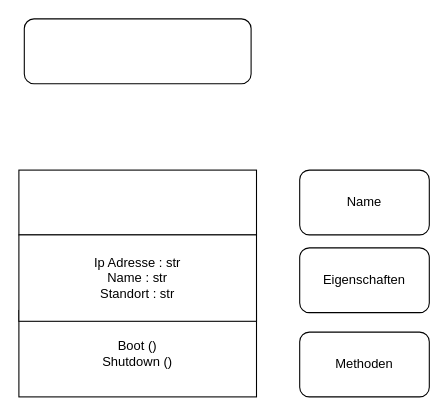
Some shapes in this 448 by 416 pixel diagram are drawn without their labels. The shapes that lost their labels are listed below. From the top down, each one's box as (x1, y1, x2, y2) in pixels, then its label:
(23, 18, 251, 84): Übung Klassendiagramm
(18, 169, 256, 235): Server
